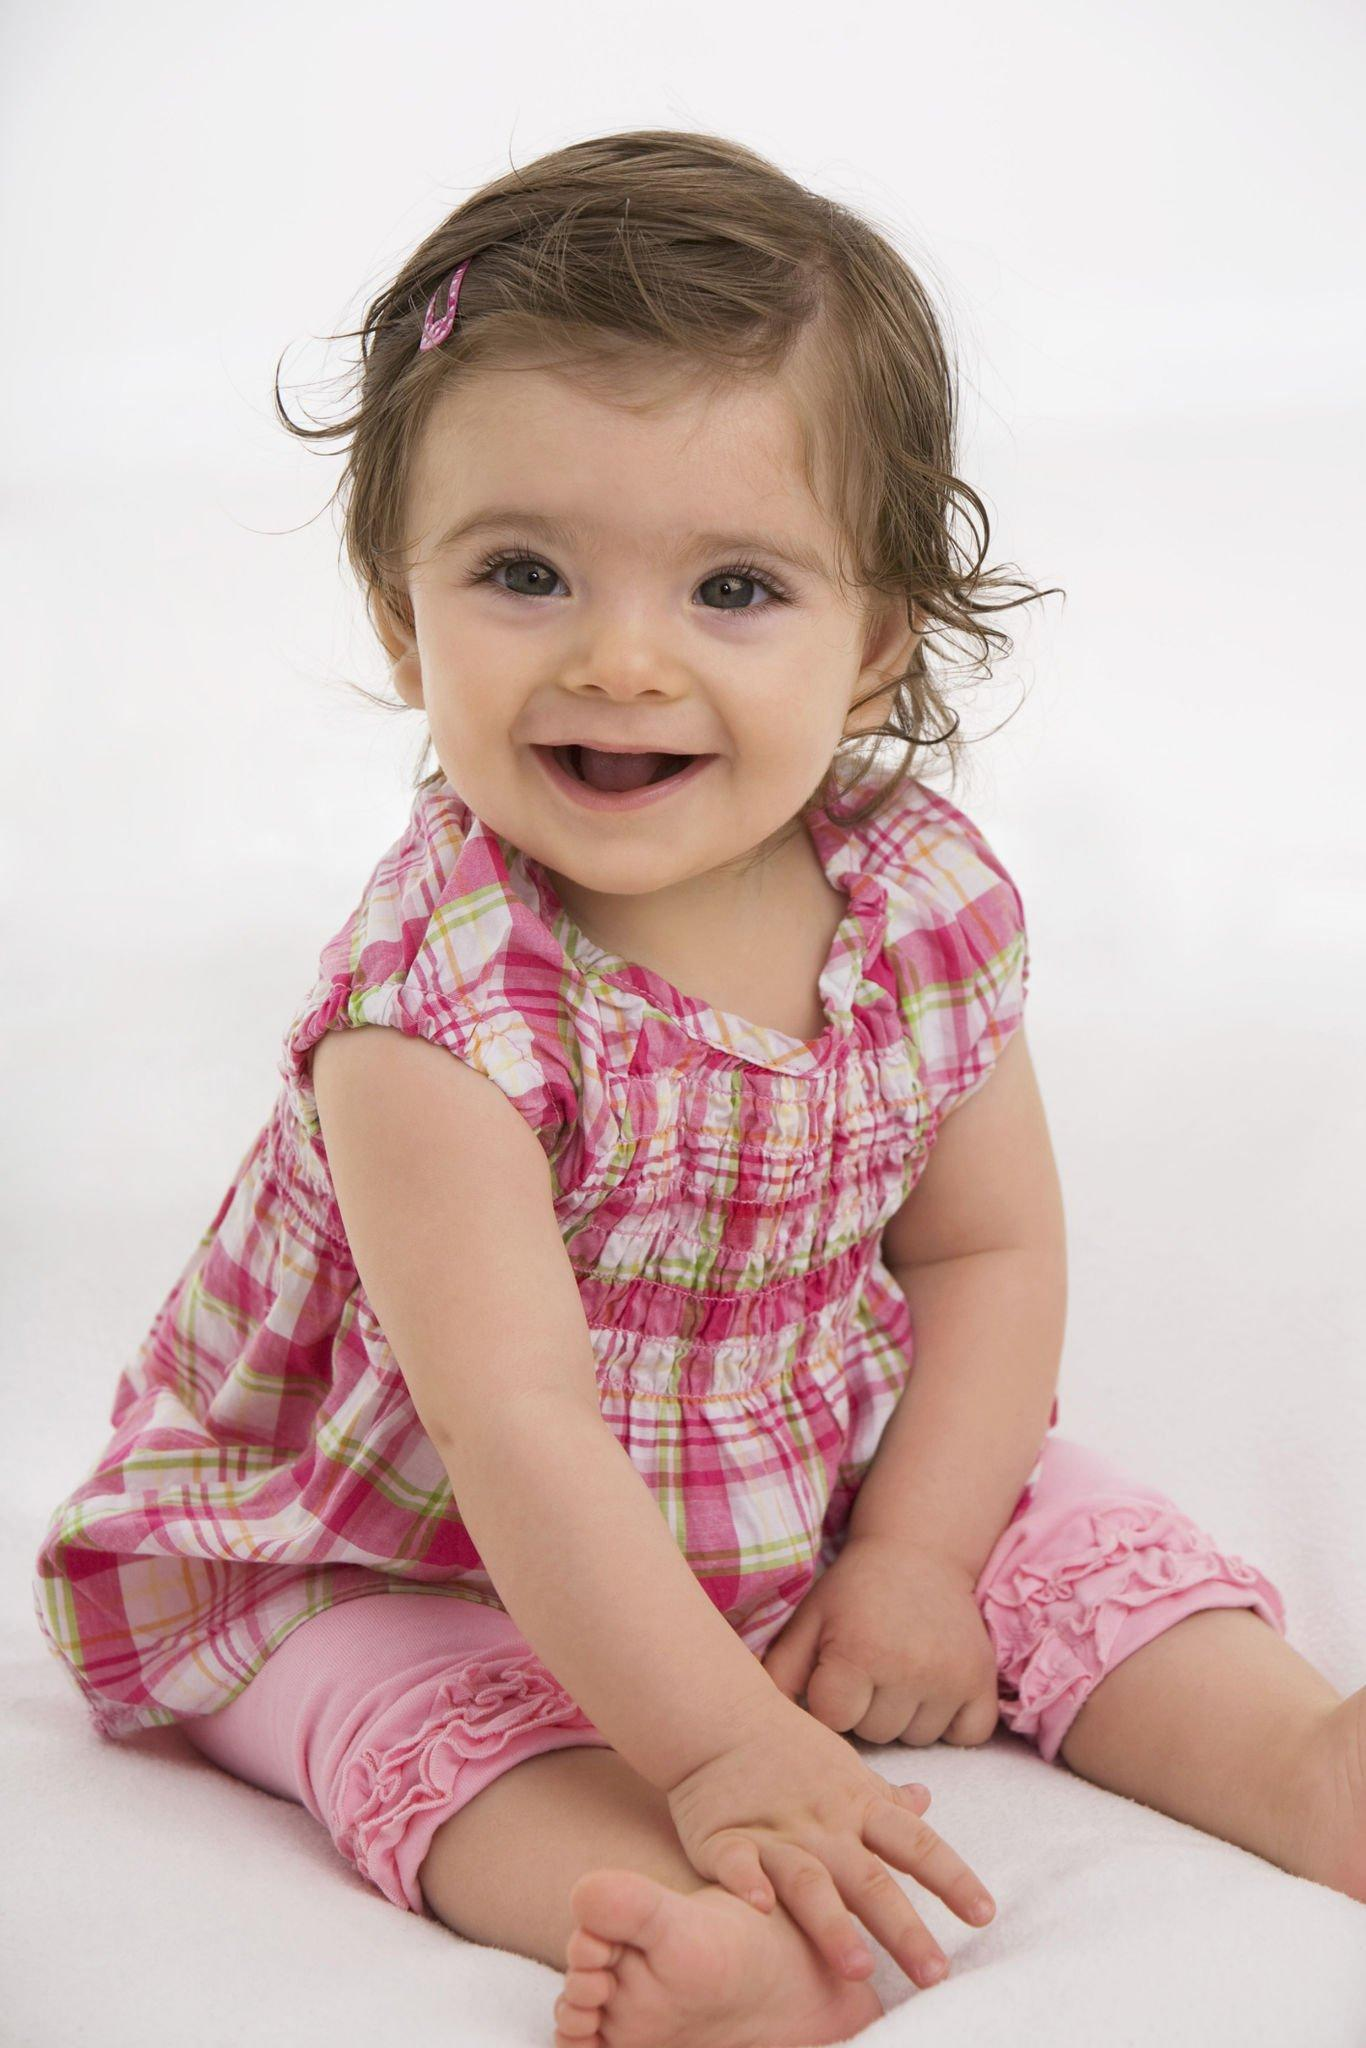Healthy: (396, 376, 896, 919)
